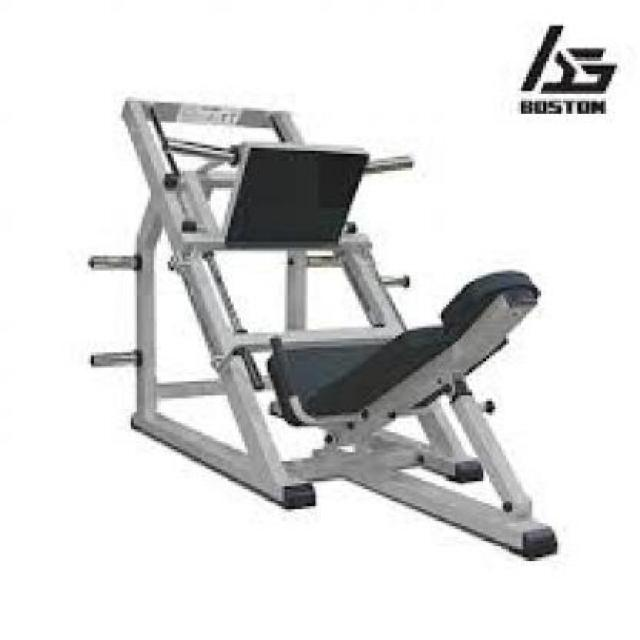leg press: (60, 77, 588, 578)
